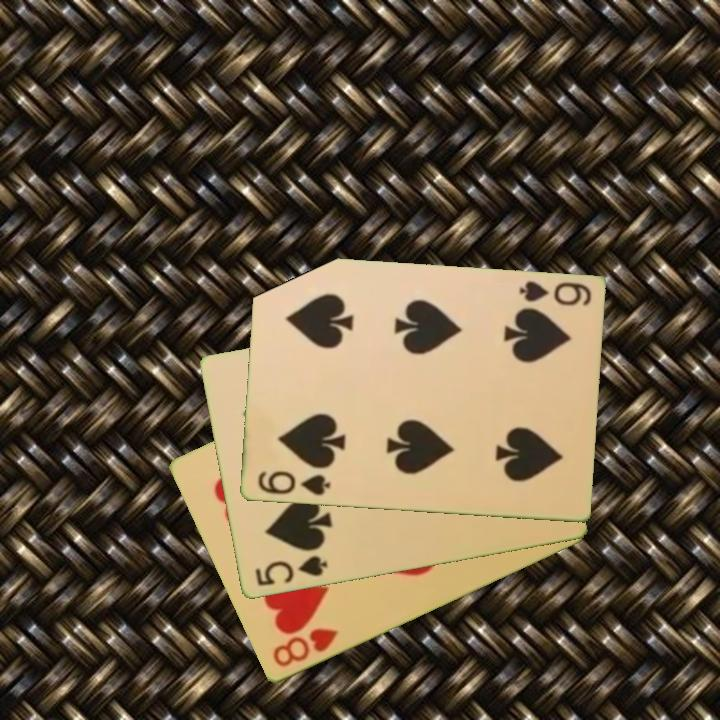5s: (251, 552, 330, 590)
6s: (254, 468, 333, 499), (515, 278, 594, 309)
8h: (269, 625, 341, 671)
